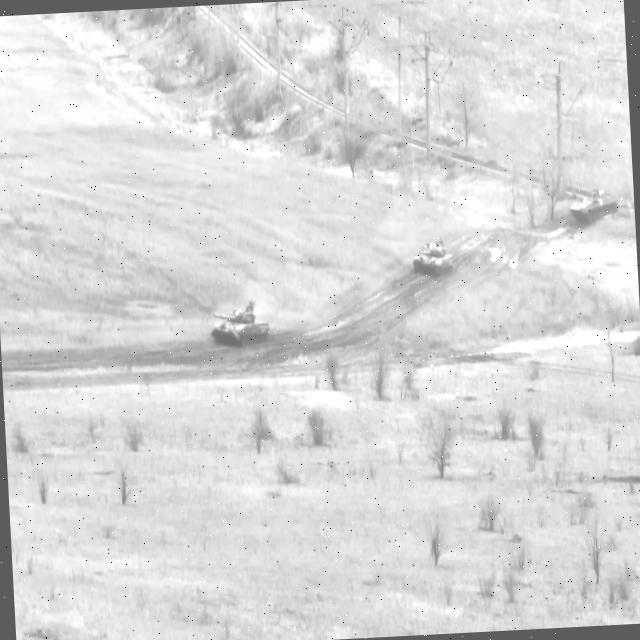AIFV: (569, 185, 622, 228)
MBT: (210, 300, 272, 351), (412, 237, 457, 280)
